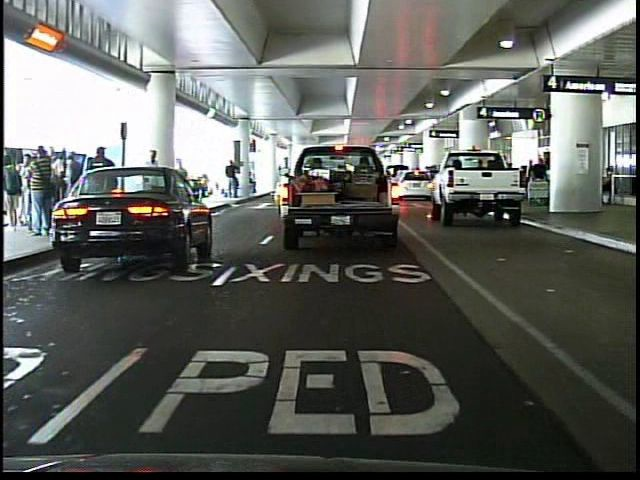person: (139, 147, 166, 228), (171, 154, 195, 227), (171, 155, 195, 228), (224, 159, 242, 200)
